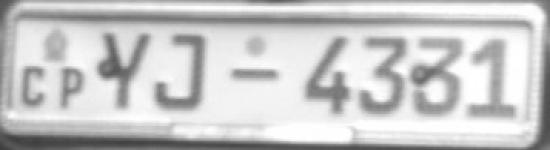-: (228, 63, 281, 86)
1: (468, 33, 521, 126)
3: (412, 26, 468, 125), (358, 26, 412, 123)
4: (298, 28, 357, 118)
C: (19, 63, 51, 111)
J: (153, 30, 220, 114)
P: (54, 64, 88, 112)
Y: (94, 28, 154, 112)
